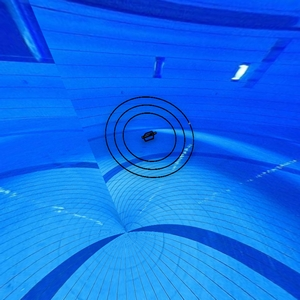circle: (100, 94, 202, 184)
submarine: (141, 129, 164, 146)
